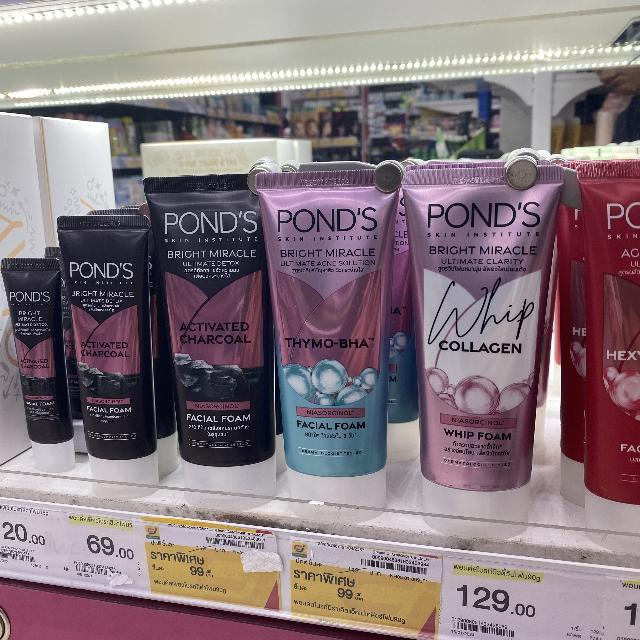Squeeze Tube: (8, 141, 640, 562)
